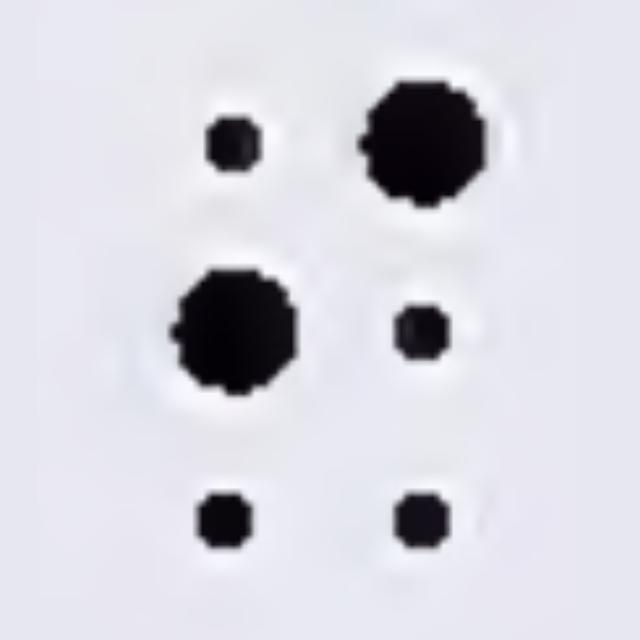i: (169, 76, 489, 549)
